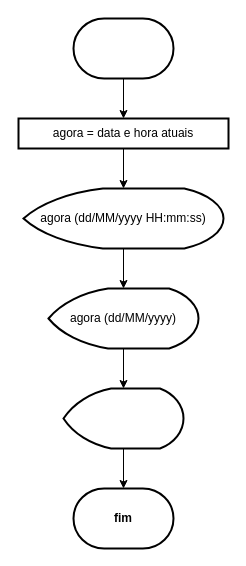
Image size: 246x566. Some labels were removed from this diagram. The shapes that lost their labels are listed below. From the top down, each one's centre as x and y in pixels, then its label:
At pixel 123 48: "inicio".
At pixel 123 418: "agora (HH:mm)".
